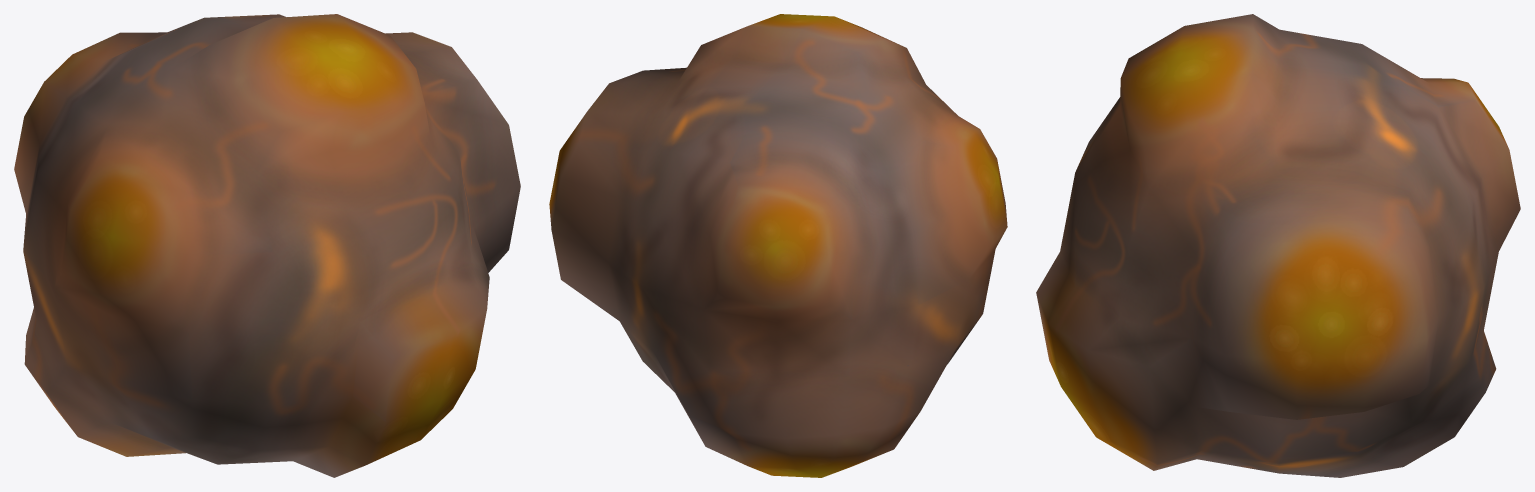
The model's file is fireball.fbx.
The picture shows the model from 3 angles, left to right: view 1: azimuth 30°, elevation 25°; view 2: azimuth 150°, elevation 25°; view 3: azimuth 270°, elevation 25°; orthographic projection. The views are drawn at different scales.
Parts seen in each view (by area): view 1: Cube; view 2: Cube; view 3: Cube.
Boxes of the visible parts, x1,y1,x2,y2 form: Cube: [14, 14, 520, 477]; Cube: [549, 14, 1007, 477]; Cube: [1036, 14, 1520, 477].
Bounding box in the file's own units: 198 × 189 × 185.
